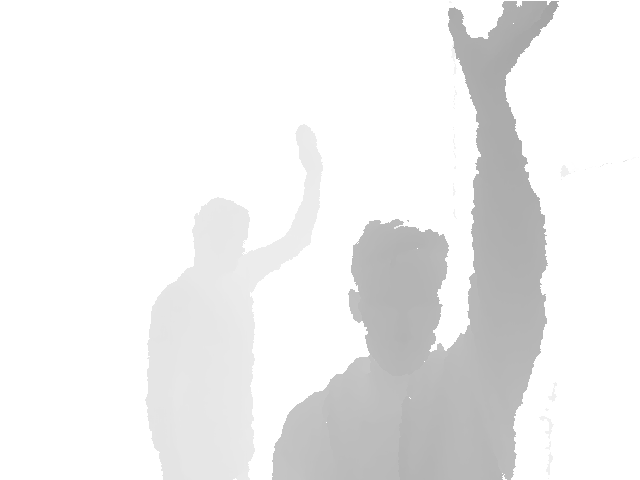hand: (446, 1, 559, 84), (294, 125, 324, 180)
head: (347, 218, 451, 379), (191, 197, 249, 280)
person: (271, 1, 560, 479), (143, 123, 324, 480)
